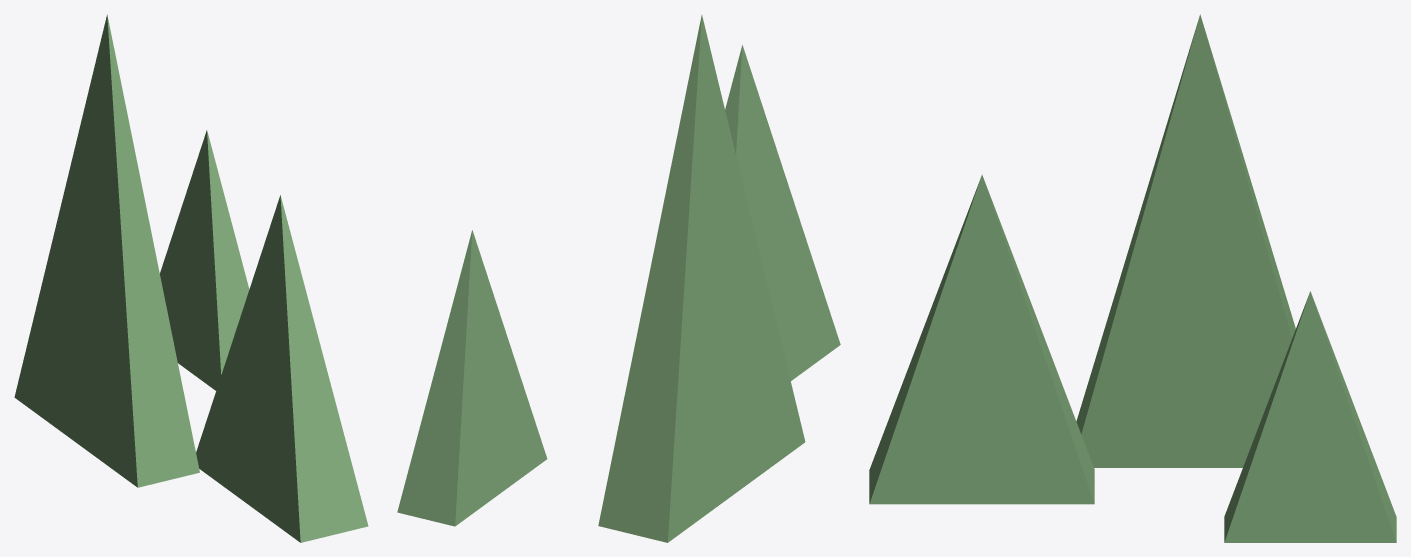
File: grass.fbx
3 views of the same model, side by side, from view 1: azimuth 30°, elevation 25°; view 2: azimuth 150°, elevation 25°; view 3: azimuth 270°, elevation 25° (orthographic). The views are drawn at different scales.
Parts seen in each view (by area): view 1: pCube1, pCube2, pCube3; view 2: pCube1, pCube3, pCube2; view 3: pCube1, pCube2, pCube3.
Part boxes in pixels (bbox=[...]): pCube1: bbox=[14, 14, 199, 487]; pCube2: bbox=[196, 195, 368, 542]; pCube3: bbox=[160, 130, 249, 390]; pCube1: bbox=[598, 14, 805, 542]; pCube3: bbox=[397, 230, 547, 526]; pCube2: bbox=[725, 45, 840, 380]; pCube1: bbox=[1076, 14, 1295, 467]; pCube2: bbox=[869, 174, 1094, 504]; pCube3: bbox=[1224, 291, 1396, 542].
Size of the model in its own units: 0.3977 by 0.7631 by 0.8316.
